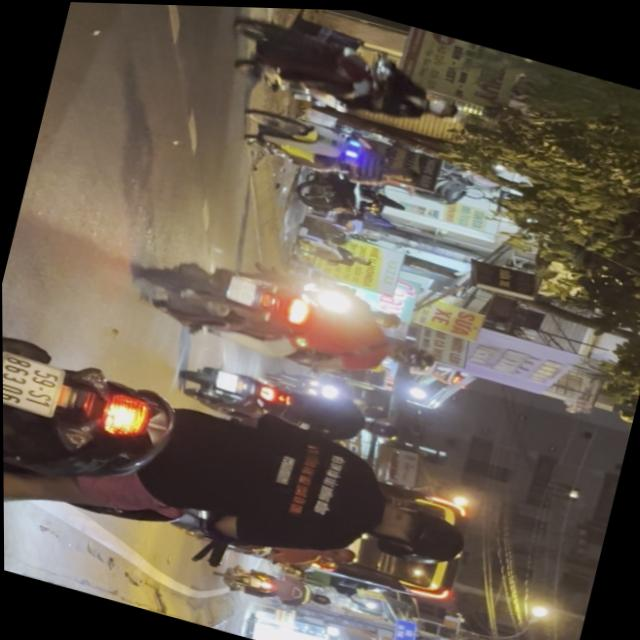helmet: (365, 485, 475, 571), (383, 334, 438, 372), (421, 89, 468, 123)
licenseplate: (2, 322, 496, 640), (123, 235, 450, 398), (215, 5, 478, 142)
nohelmet: (2, 350, 66, 415), (226, 270, 260, 303)
